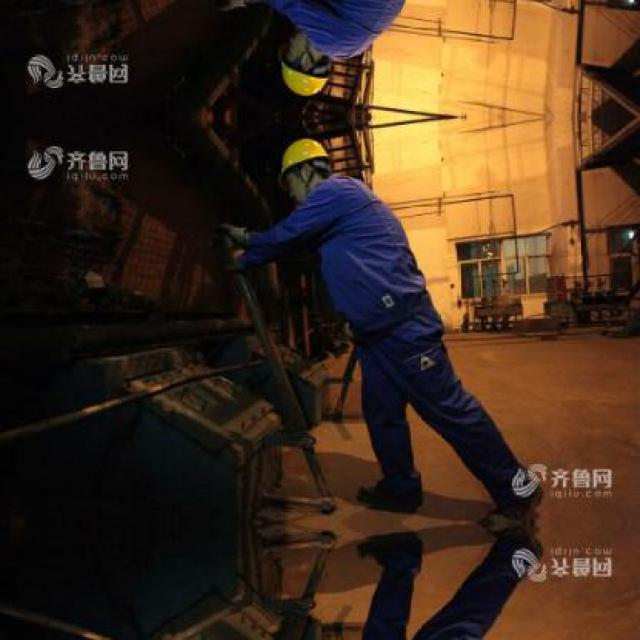helmet: (273, 134, 333, 202), (273, 33, 333, 100)
